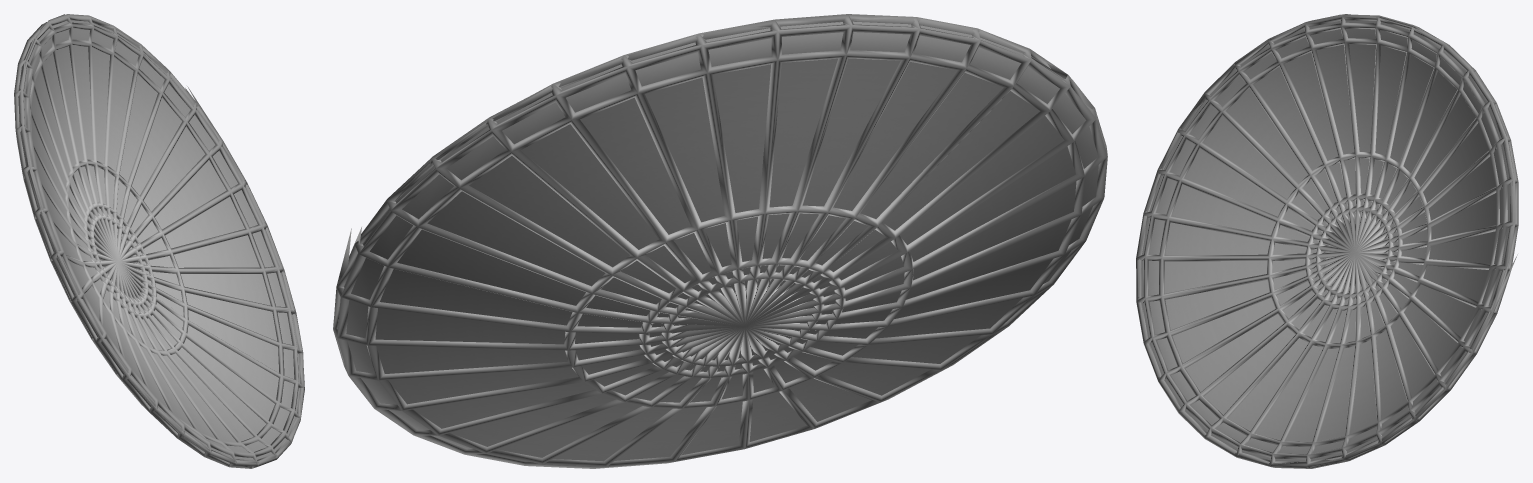
The model's file is deathstarcanon.fbx.
3 renders of one model, left to right at view 1: azimuth 30°, elevation 25°; view 2: azimuth 150°, elevation 25°; view 3: azimuth 270°, elevation 25°, orthographic. The views are drawn at different scales.
Parts seen in each view (by area): view 1: deathstarcanon; view 2: deathstarcanon; view 3: deathstarcanon.
Boxes of the visible parts, <box> form: deathstarcanon: <box>14,14,304,468</box>; deathstarcanon: <box>333,14,1107,468</box>; deathstarcanon: <box>1136,14,1518,468</box>.
Bounding box in the file's own units: 522 × 555 × 535.
